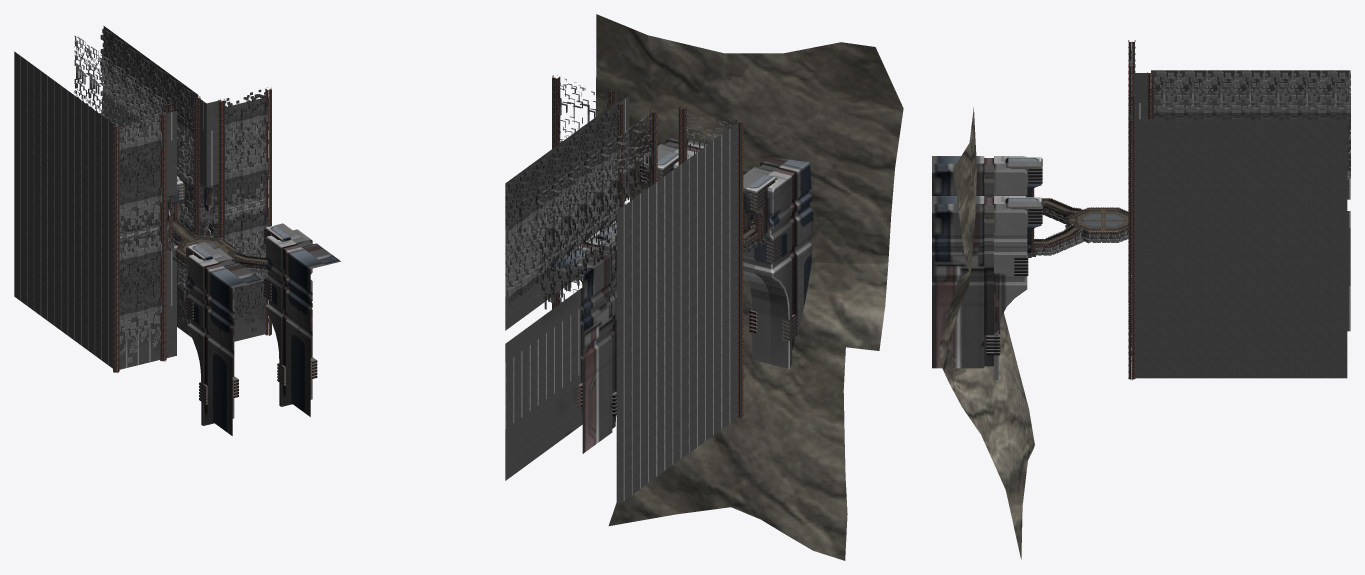
File: blackfactory.glb
The picture shows the model from 3 angles, left to right: view 1: azimuth 30°, elevation 25°; view 2: azimuth 150°, elevation 25°; view 3: azimuth 270°, elevation 25°; orthographic projection. The views are drawn at different scales.
Parts seen in each view (by area): view 1: polySurface4541, polySurface4546, gate, floor00, wall_H78, wall_S16; view 2: gake_moto5, polySurface4541, gate, polySurface4546; view 3: polySurface4541, gate, gake_moto5, polySurface4546, floor00, wall_S16, yuka0106, saku0237.
Part boxes in pixels (left/top/right/bottom): polySurface4541: left=14, top=26, right=271, bottom=372; polySurface4546: left=74, top=28, right=268, bottom=362; gate: left=166, top=175, right=340, bottom=435; floor00: left=172, top=220, right=267, bottom=281; wall_H78: left=200, top=182, right=218, bottom=237; wall_S16: left=172, top=230, right=267, bottom=293; gake_moto5: left=596, top=14, right=903, bottom=560; polySurface4541: left=505, top=75, right=743, bottom=505; gate: left=549, top=136, right=813, bottom=453; polySurface4546: left=505, top=78, right=734, bottom=309; polySurface4541: left=1128, top=40, right=1350, bottom=380; gate: left=932, top=156, right=1042, bottom=380; gake_moto5: left=939, top=107, right=1034, bottom=559; polySurface4546: left=1129, top=44, right=1350, bottom=360; floor00: left=1034, top=199, right=1128, bottom=244; wall_S16: left=1027, top=206, right=1128, bottom=257; yuka0106: left=1034, top=201, right=1128, bottom=243; saku0237: left=1034, top=198, right=1128, bottom=247.
Bounding box in the file's own units: 257 × 415 × 352.
12 materials, 12 textured.
